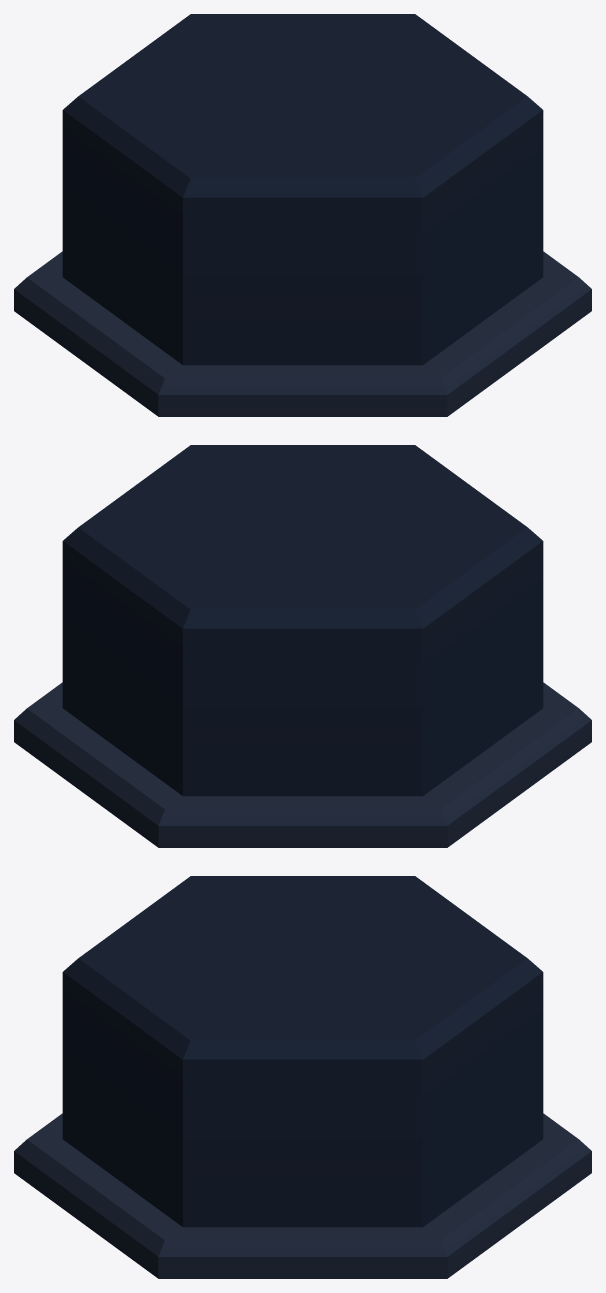
Rendered from Pillar 07.FBX.
3 views of the same model, one above another, from view 1: azimuth 30°, elevation 25°; view 2: azimuth 150°, elevation 25°; view 3: azimuth 270°, elevation 25° (orthographic).
Parts seen in each view (by area): view 1: Pillar 07; view 2: Pillar 07; view 3: Pillar 07.
Boxes of the visible parts, box(x1,y1,x2,y2) form: Pillar 07: box(14, 14, 591, 416); Pillar 07: box(14, 445, 591, 847); Pillar 07: box(14, 876, 591, 1278).
Size of the model in its own units: 285 by 135 by 329.
1 material, 1 textured.
